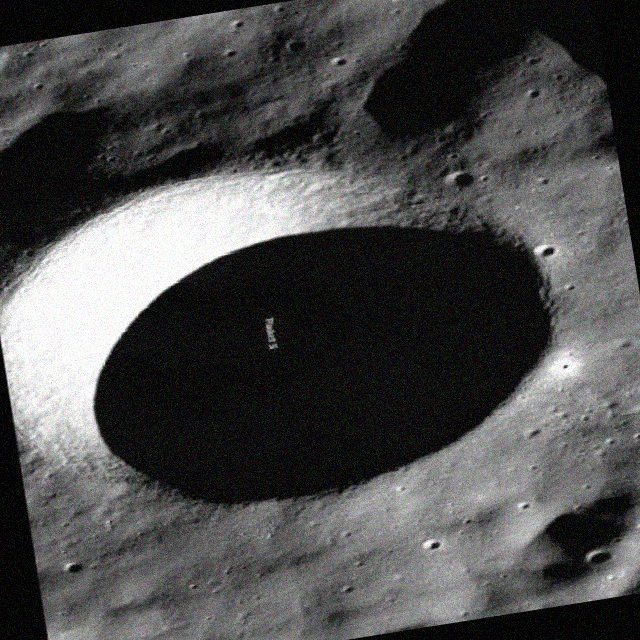crater: (0, 127, 588, 547), (442, 170, 478, 194)
